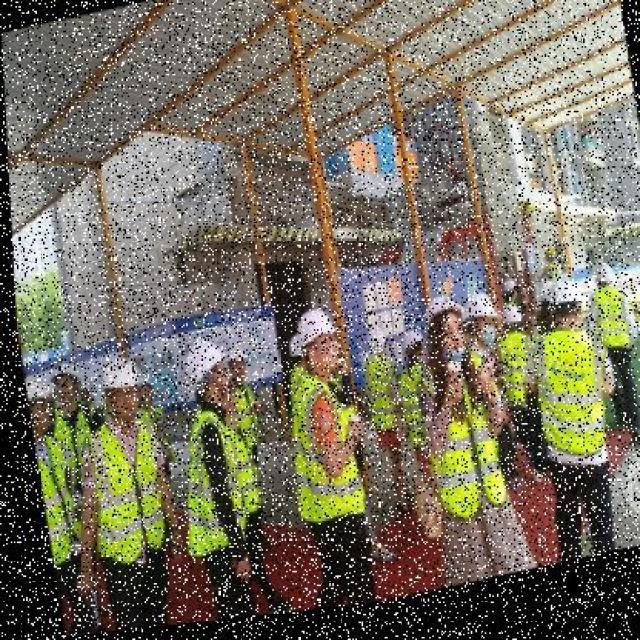helmet: (173, 334, 229, 390), (91, 357, 139, 403), (283, 309, 334, 352), (537, 288, 583, 324)
vest: (74, 413, 178, 583), (272, 372, 364, 532), (526, 328, 610, 481), (172, 414, 241, 560)
